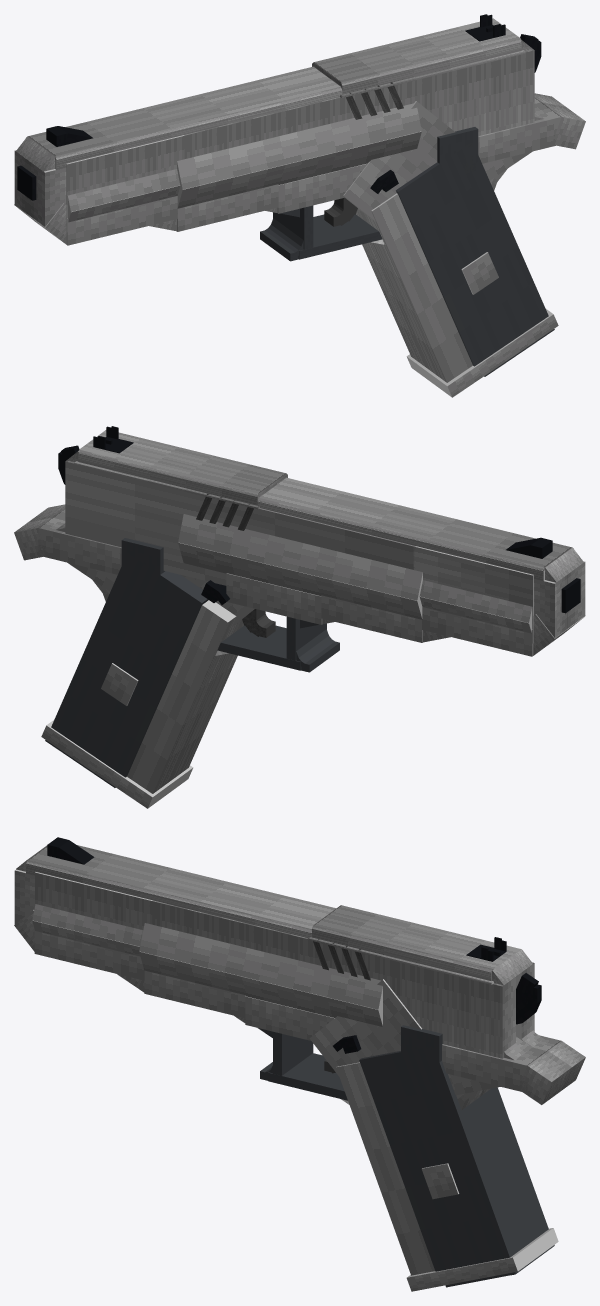
The model's file is gun_04d150d3.glb.
3 renders of one model, top to bottom at view 1: azimuth 30°, elevation 25°; view 2: azimuth 150°, elevation 25°; view 3: azimuth 330°, elevation 25°, orthographic.
Visible parts, largest first — view 1: Object_5, Object_2, Object_4, Object_3; view 2: Object_5, Object_2, Object_4, Object_3; view 3: Object_5, Object_2, Object_4, Object_3.
Part boxes in pixels (x1,y1,x2,y2): Object_5: [14, 18, 585, 397]; Object_2: [260, 127, 554, 376]; Object_4: [17, 14, 541, 200]; Object_3: [324, 82, 403, 226]; Object_5: [14, 430, 585, 808]; Object_2: [45, 538, 339, 787]; Object_4: [58, 426, 580, 613]; Object_3: [196, 493, 275, 637]; Object_5: [14, 845, 585, 1291]; Object_2: [258, 1025, 554, 1287]; Object_4: [47, 837, 541, 1275]; Object_3: [313, 939, 370, 1073].
Size of the model in its own units: 20.65 by 12.64 by 2.87.
Materials: 5 (5 with a texture image).
